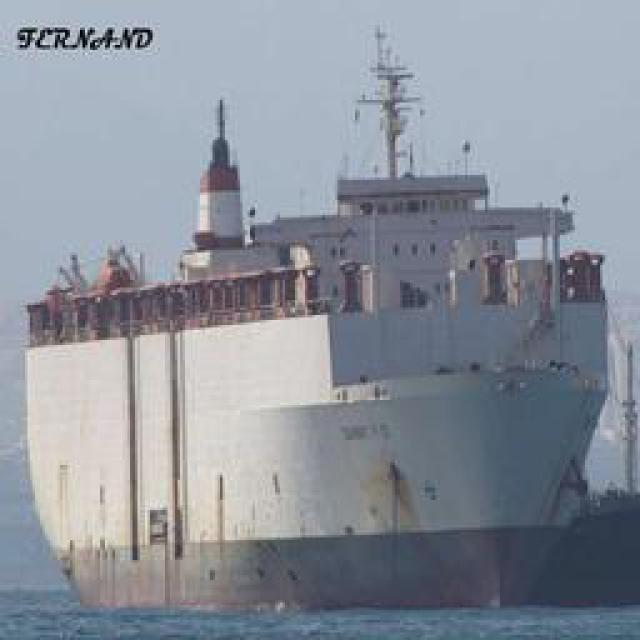Ship: (17, 60, 620, 615)
